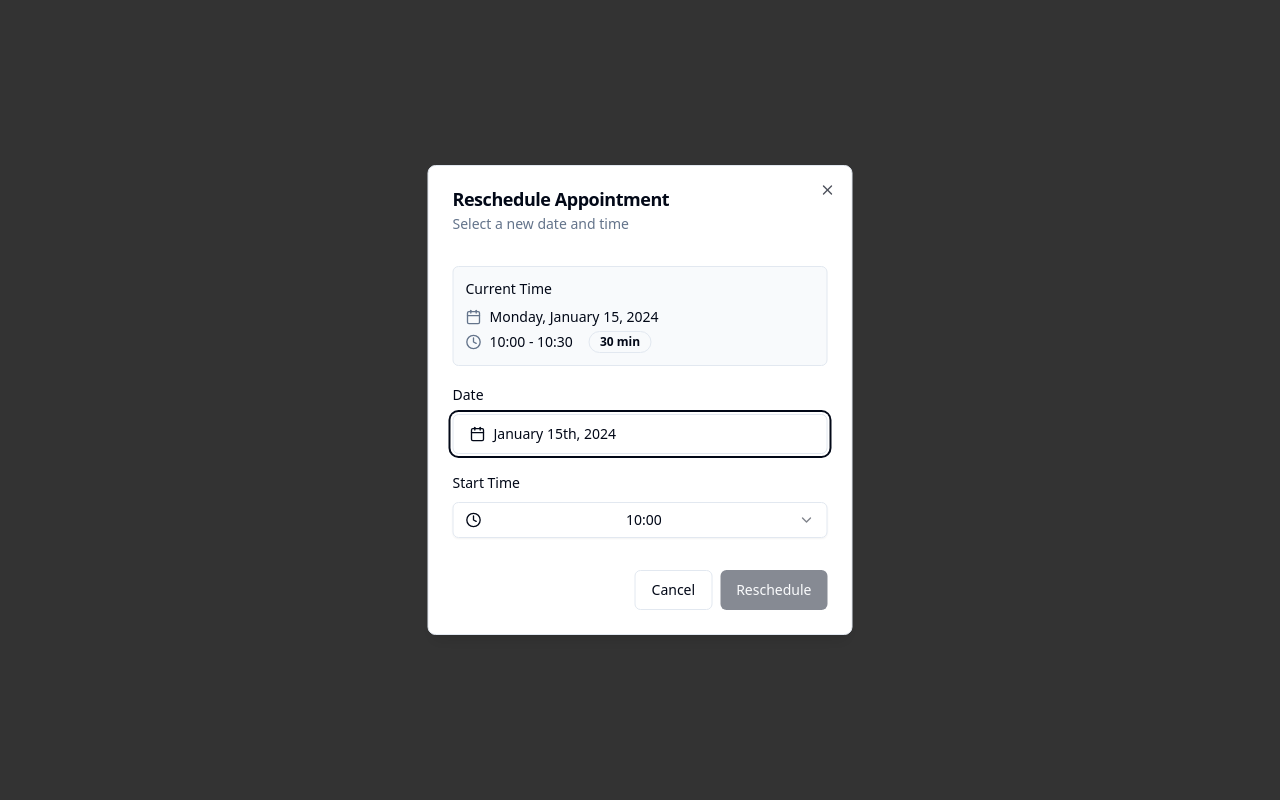
it: QuickRescheduleDialog › Time Selection › should show time options in 15-minute intervals
Find and click the time selector trigger
Click the dropdown.
click(640, 520)  # box [452,502,828,538]
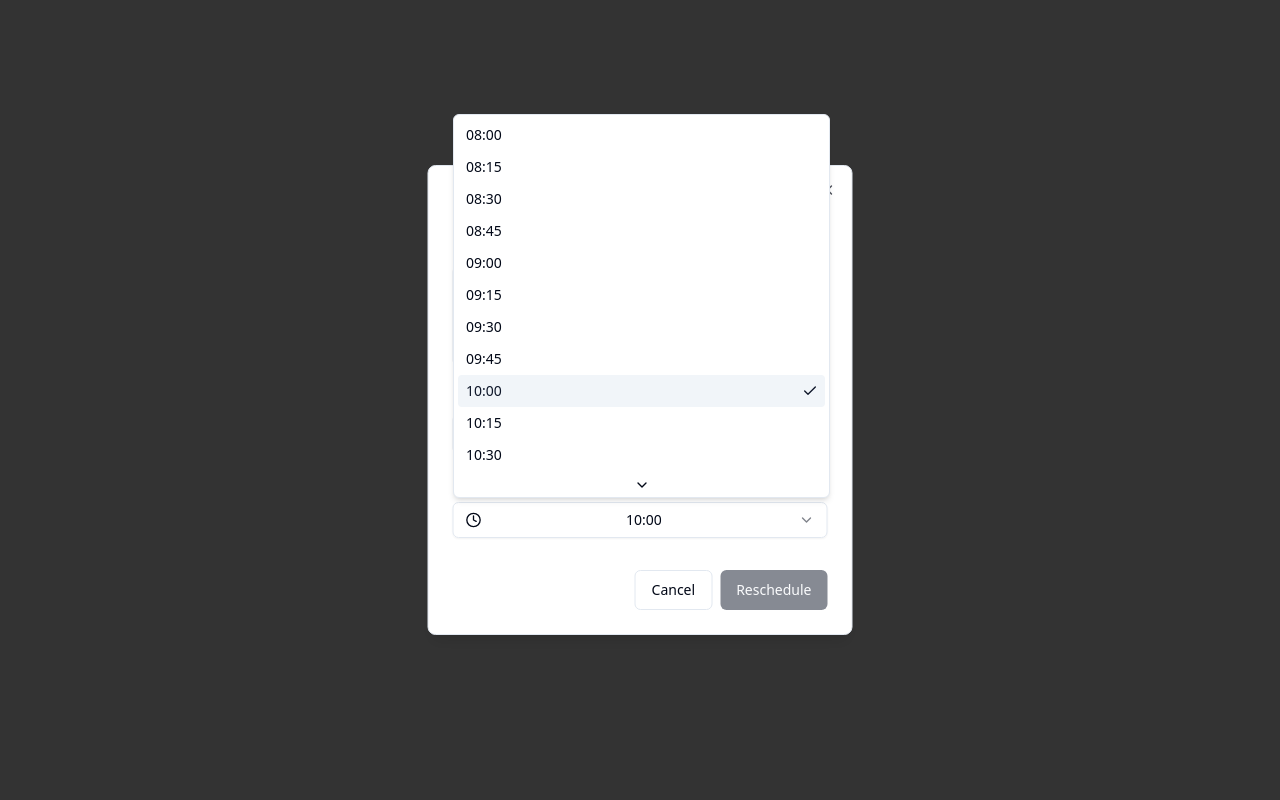
Expected: the text "08:00" is shown, [466,125,502,145]
Expected: the text "08:15" is shown, [466,157,502,177]
Expected: the text "08:30" is shown, [466,189,502,209]
